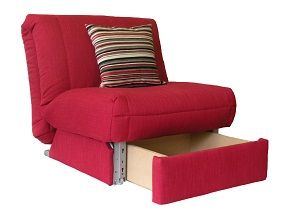chairs: (18, 11, 271, 205)
